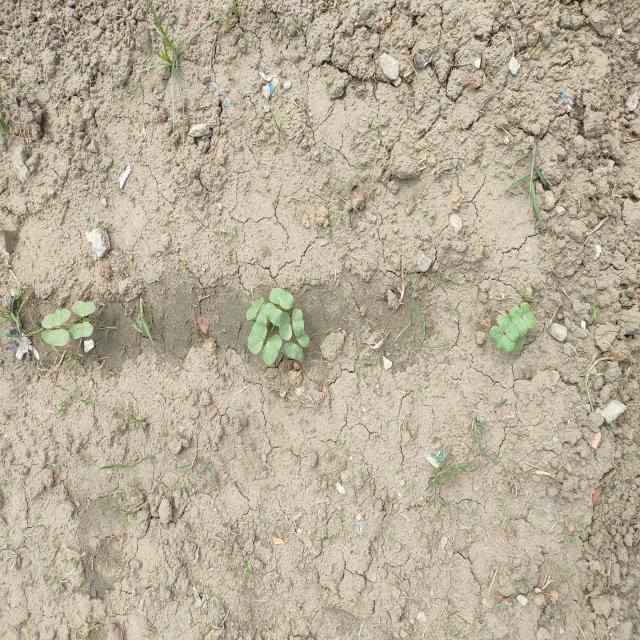seedling: (489, 326, 515, 353), (248, 321, 267, 355), (263, 334, 282, 365), (509, 306, 527, 337), (269, 288, 294, 310), (498, 315, 519, 341), (246, 297, 264, 321), (69, 322, 94, 339), (520, 302, 536, 328), (265, 303, 283, 326), (71, 301, 96, 317), (48, 329, 70, 347), (278, 312, 292, 340), (282, 342, 303, 360), (292, 308, 304, 337), (52, 309, 71, 325), (295, 331, 309, 348), (257, 304, 268, 325), (41, 314, 55, 328), (41, 330, 51, 344)
